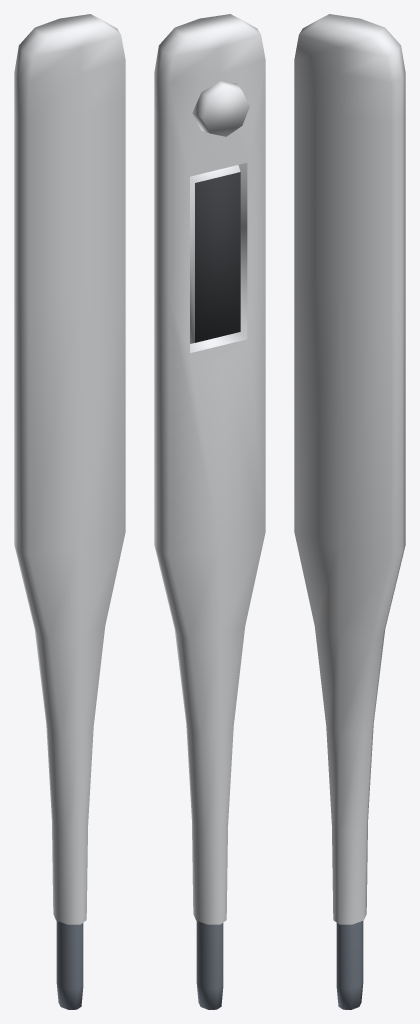
File: heating_equipment_electronic_thermometer.glb
The picture shows the model from 3 angles, left to right: view 1: azimuth 30°, elevation 25°; view 2: azimuth 210°, elevation 25°; view 3: azimuth 330°, elevation 25°; orthographic projection.
Visible parts, largest first — view 1: heating_equipment_electronic_thermometer; view 2: heating_equipment_electronic_thermometer; view 3: heating_equipment_electronic_thermometer.
Boxes of the visible parts, x1,y1,x2,y2 form: heating_equipment_electronic_thermometer: (14, 14, 125, 1009); heating_equipment_electronic_thermometer: (154, 14, 265, 1009); heating_equipment_electronic_thermometer: (294, 14, 405, 1009).
Size of the model in its own units: 2.4 by 21.57 by 1.06.
1 material, 1 textured.
